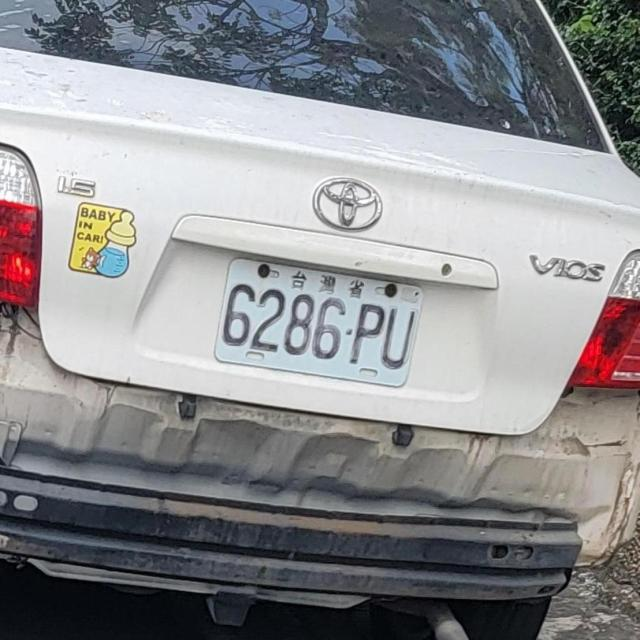W: (208, 250, 430, 395)
